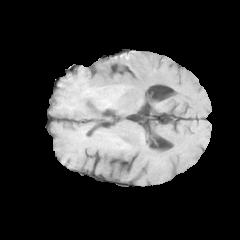glioma: (66, 53, 183, 119)
